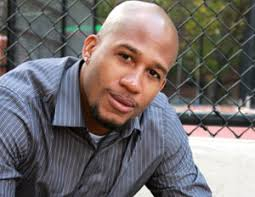black_male: (93, 10, 185, 129)
